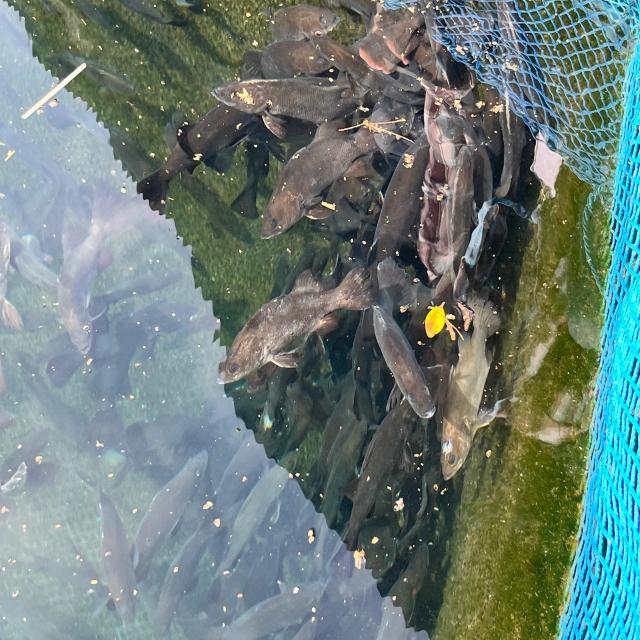ikan: (216, 261, 376, 386), (437, 288, 511, 482), (210, 74, 364, 135), (370, 296, 437, 420)
